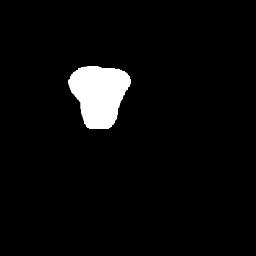mass: (67, 67, 134, 140)
